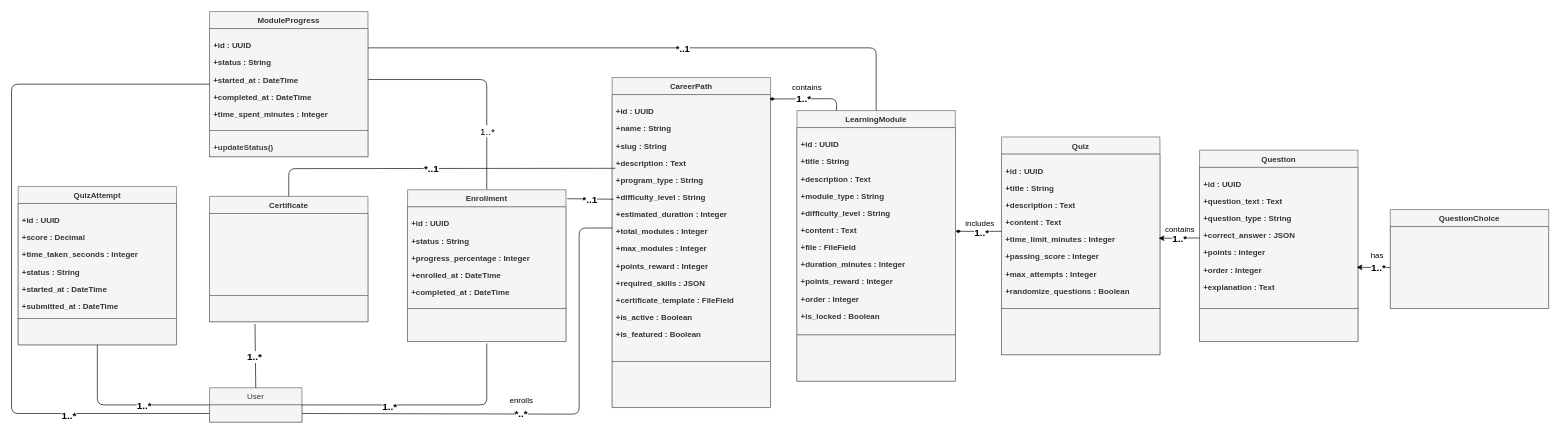
Image size: 1560x434. Some labels were removed from this diagram. Here are the shapes that lost their labels. From the top down, the centre of each, then its label:
At point (288, 254): "+id : UUID +certificate_id : String +issued_at : DateTime +pdf_url : String".
At point (1469, 267): "+id : UUID +choice_text : String +is_correct : Boolean +order : Integer".
At point (288, 308): "+generate()".
At point (486, 325): "+updateProgress()".
At point (1278, 325): "+validate()".
At point (97, 331): "+calculateScore()".
At point (1080, 331): "+addQuestion() +calculateScore()".
At point (875, 357): "+updateContent() +addQuiz()".
At point (691, 384): "+addModule() +removeModule()".
